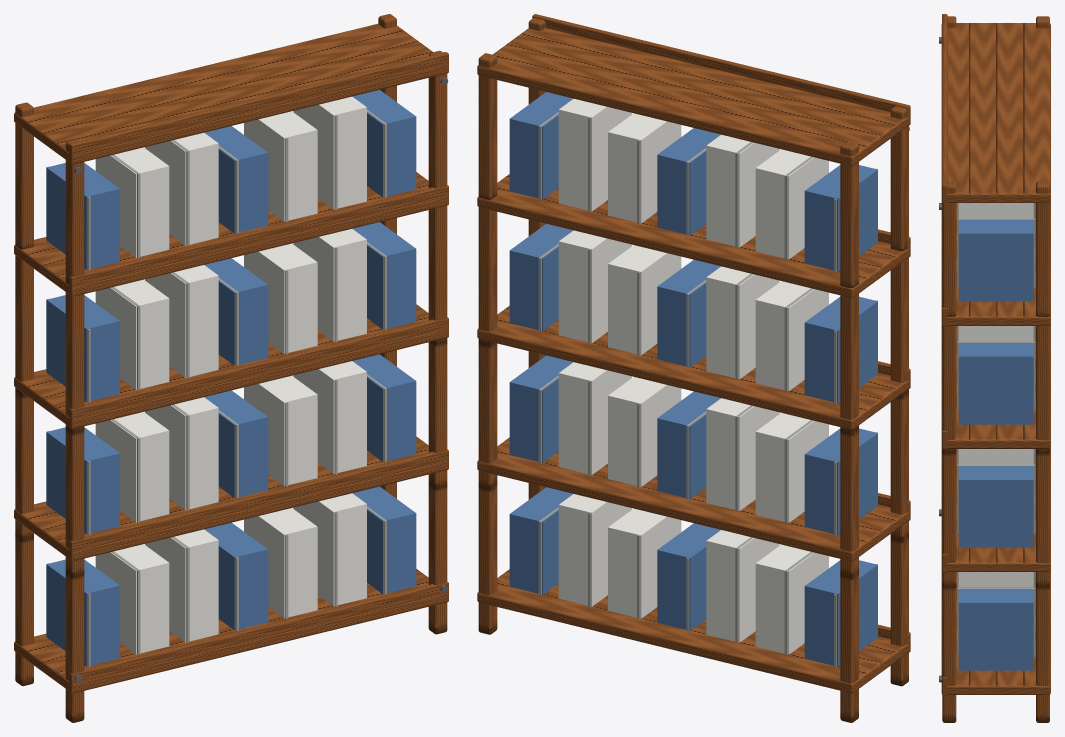
File: prison-complex-builder-library-shelf-fd45e67c__25670.glb
3 renders of one model, left to right at view 1: azimuth 30°, elevation 25°; view 2: azimuth 150°, elevation 25°; view 3: azimuth 270°, elevation 25°, orthographic. The views are drawn at different scales.
Visible parts, largest first — view 1: library-shelf; view 2: library-shelf; view 3: library-shelf.
Part boxes in pixels (x1,y1,x2,y2): library-shelf: (14,14,448,722); library-shelf: (477,14,910,722); library-shelf: (939,14,1050,722).
Size of the model in its own units: 1.3 by 1.9 by 0.358.
6 materials, 1 textured.
